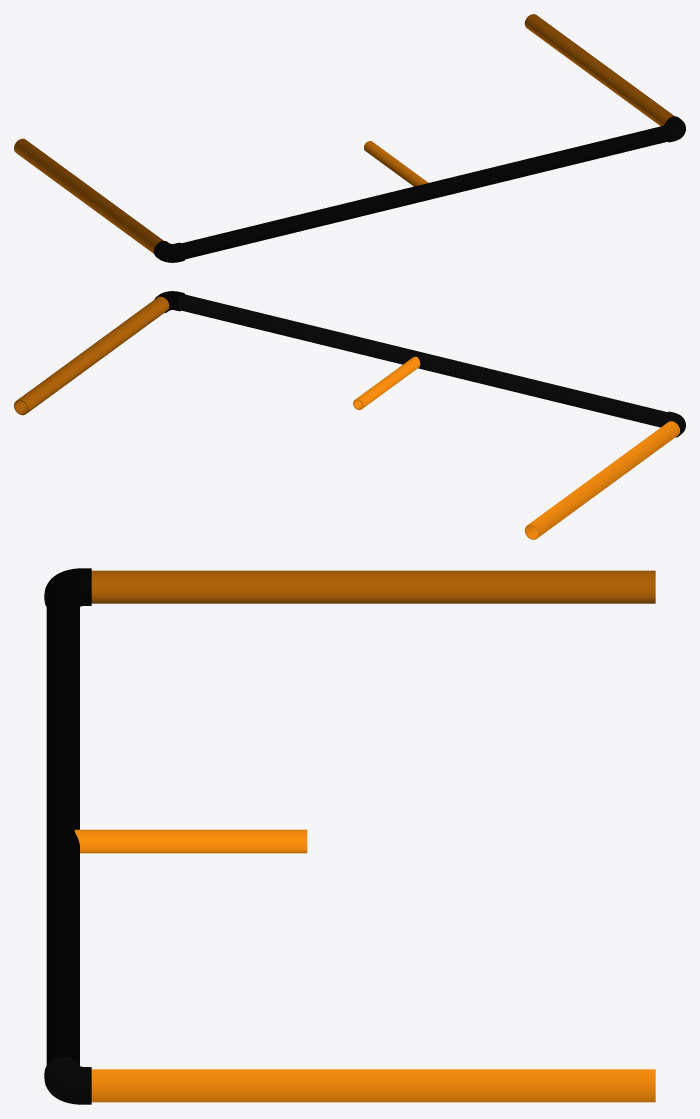
The model's file is gate.obj.
3 renders of one model, top to bottom at view 1: azimuth 30°, elevation 25°; view 2: azimuth 150°, elevation 25°; view 3: azimuth 270°, elevation 25°, orthographic. The views are drawn at different scales.
Parts seen in each view (by area): view 1: mesh18, mesh14, mesh10, mesh23; view 2: mesh18, mesh14, mesh10; view 3: mesh14, mesh18, mesh10, mesh23.
Part boxes in pixels (x1=…): mesh18: x1=182, y1=125, x2=671, y2=259; mesh14: x1=14, y1=14, x2=674, y2=253; mesh10: x1=364, y1=141, x2=428, y2=186; mesh23: x1=156, y1=118, x2=685, y2=262; mesh18: x1=177, y1=294, x2=667, y2=427; mesh14: x1=18, y1=296, x2=679, y2=537; mesh10: x1=356, y1=356, x2=420, y2=408; mesh14: x1=91, y1=570, x2=655, y2=1102; mesh18: x1=46, y1=584, x2=79, y2=1064; mesh10: x1=74, y1=829, x2=307, y2=853; mesh23: x1=44, y1=568, x2=82, y2=1104.
Bounding box in the file's own units: 3.26 × 0.1016 × 1.64.
